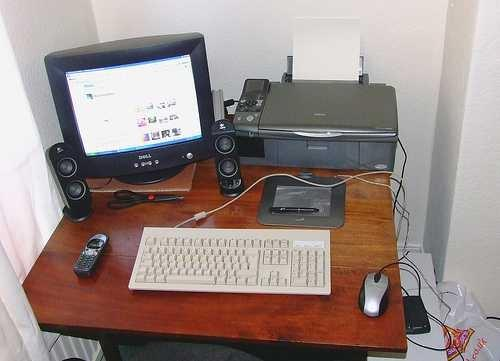Keyboard: (128, 227, 330, 295)
